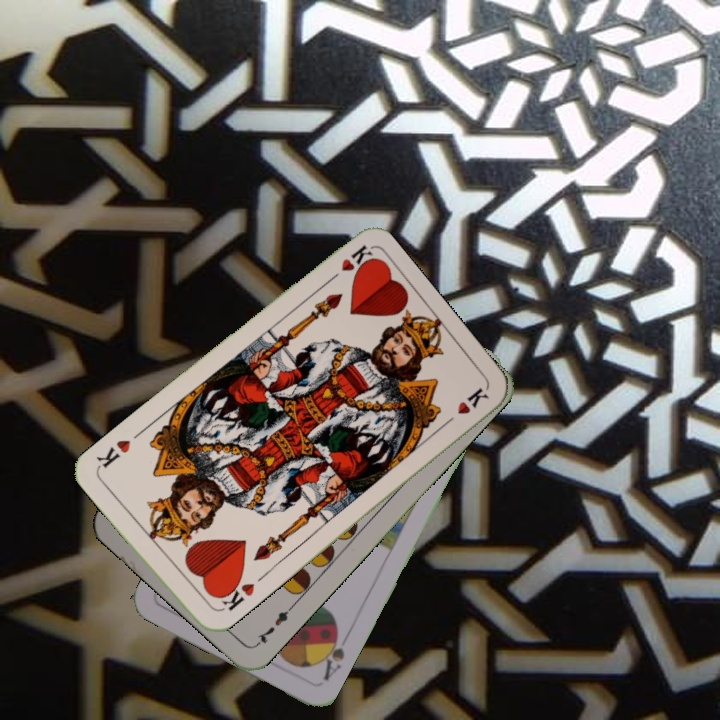E7: (251, 601, 296, 649)
HK: (321, 241, 375, 287), (212, 572, 257, 615)
SA: (314, 625, 347, 683)
